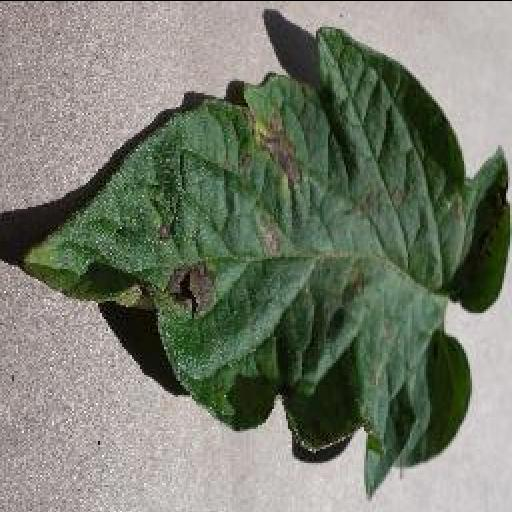Early Blight: (22, 28, 512, 497)
